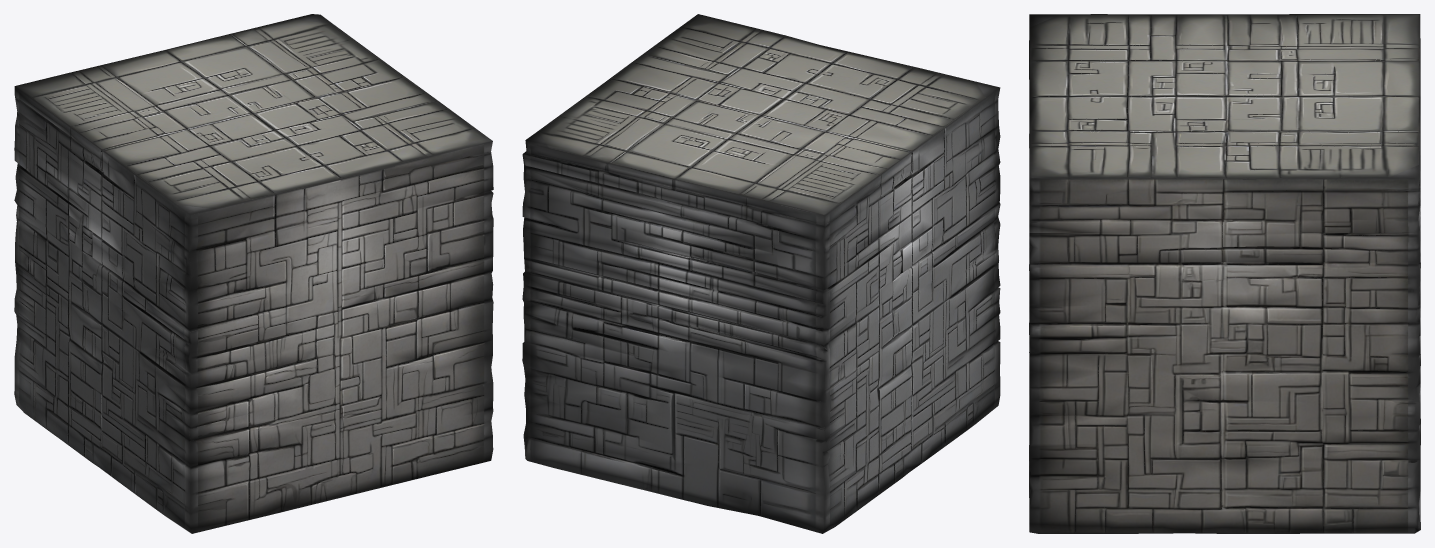
The model's file is DungeonBaseBlock.fbx.
The picture shows the model from 3 angles, left to right: view 1: azimuth 30°, elevation 25°; view 2: azimuth 150°, elevation 25°; view 3: azimuth 270°, elevation 25°; orthographic projection. The views are drawn at different scales.
Visible parts, largest first — view 1: Mesh1.0; view 2: Mesh1.0; view 3: Mesh1.0.
Part boxes in pixels (left/top/right/bottom): Mesh1.0: left=14, top=14, right=493, bottom=533; Mesh1.0: left=522, top=14, right=1000, bottom=533; Mesh1.0: left=1029, top=14, right=1420, bottom=533.
Size of the model in its own units: 199 by 200 by 199.
Materials: 1 (1 with a texture image).
